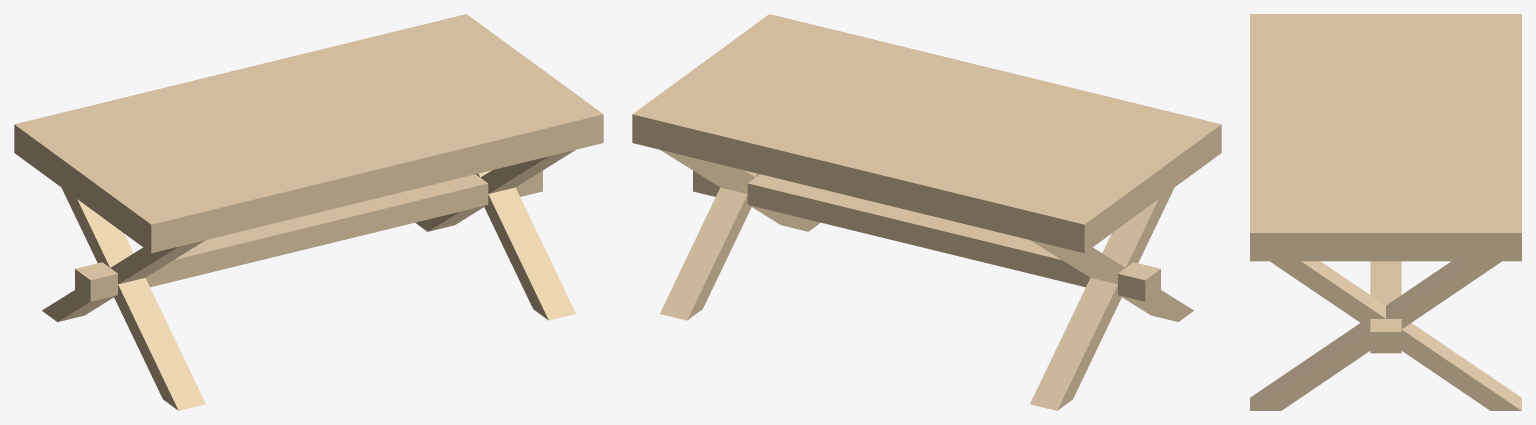
Rendered from tableCross.glb.
3 renders of one model, left to right at view 1: azimuth 30°, elevation 25°; view 2: azimuth 150°, elevation 25°; view 3: azimuth 270°, elevation 25°, orthographic.
Parts seen in each view (by area): view 1: tableCross; view 2: tableCross; view 3: tableCross.
Part boxes in pixels (x1,y1,x2,y2): tableCross: [14, 14, 603, 410]; tableCross: [632, 14, 1221, 410]; tableCross: [1250, 14, 1521, 410].
Bounding box in the file's own units: 8.52 × 3.47 × 4.47.
